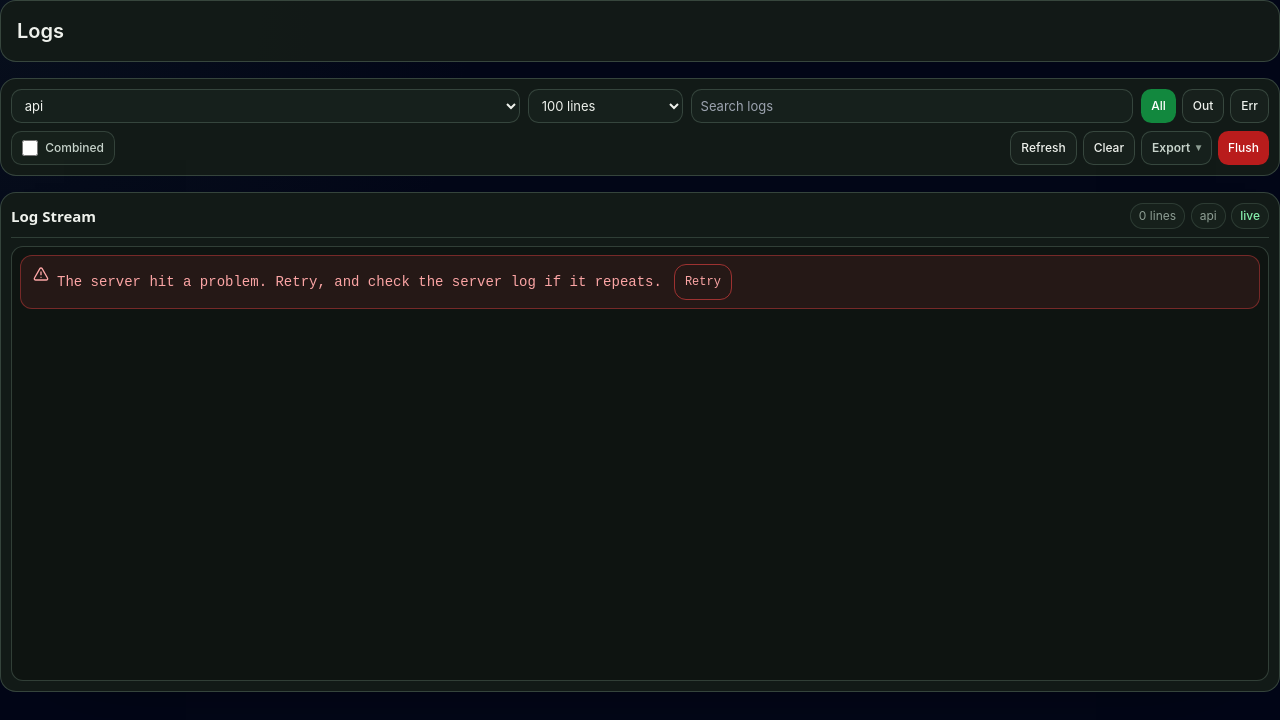
Test: Logs › retries the stream and clears the error once lines arrive
Click the button "Retry" at [703, 282], box [674,264,732,300]
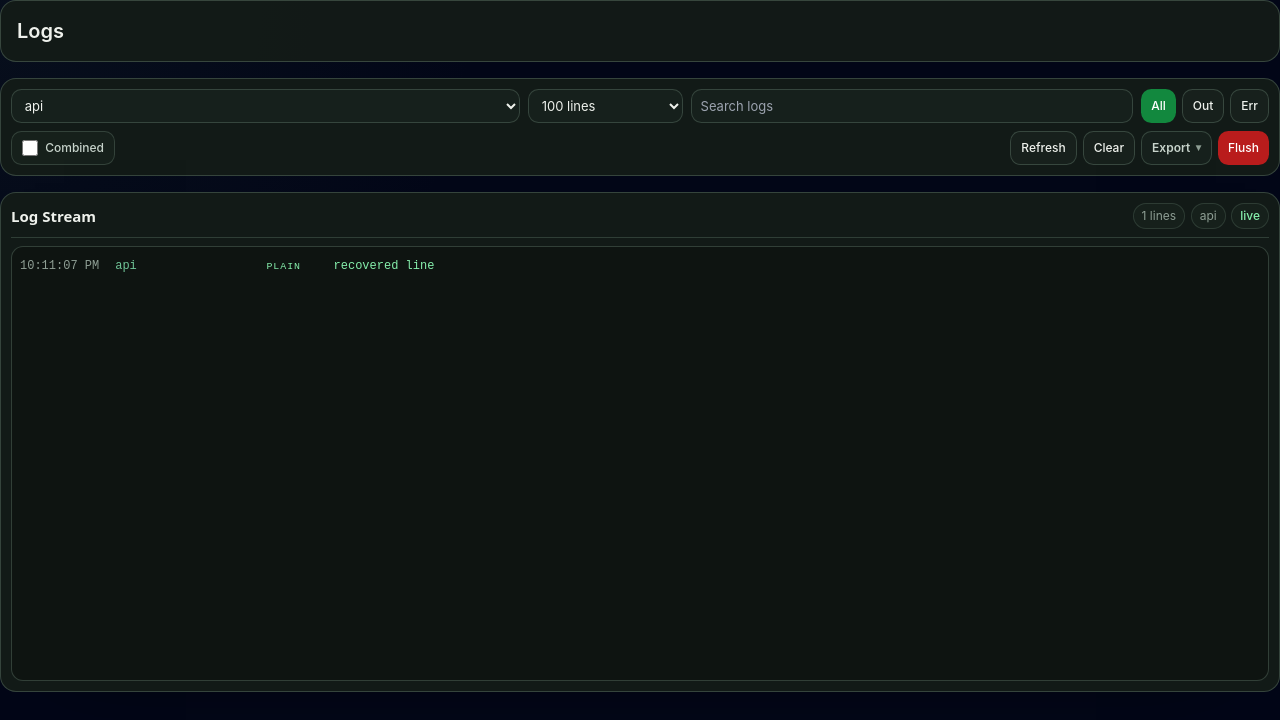
Check: the text "recovered line" is shown, box [334,259,434,273]
Check: the text "Retry" is gone
